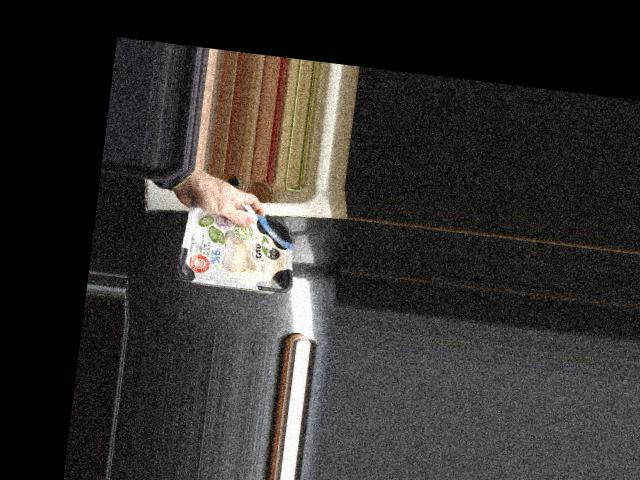cheese: (176, 196, 299, 294)
